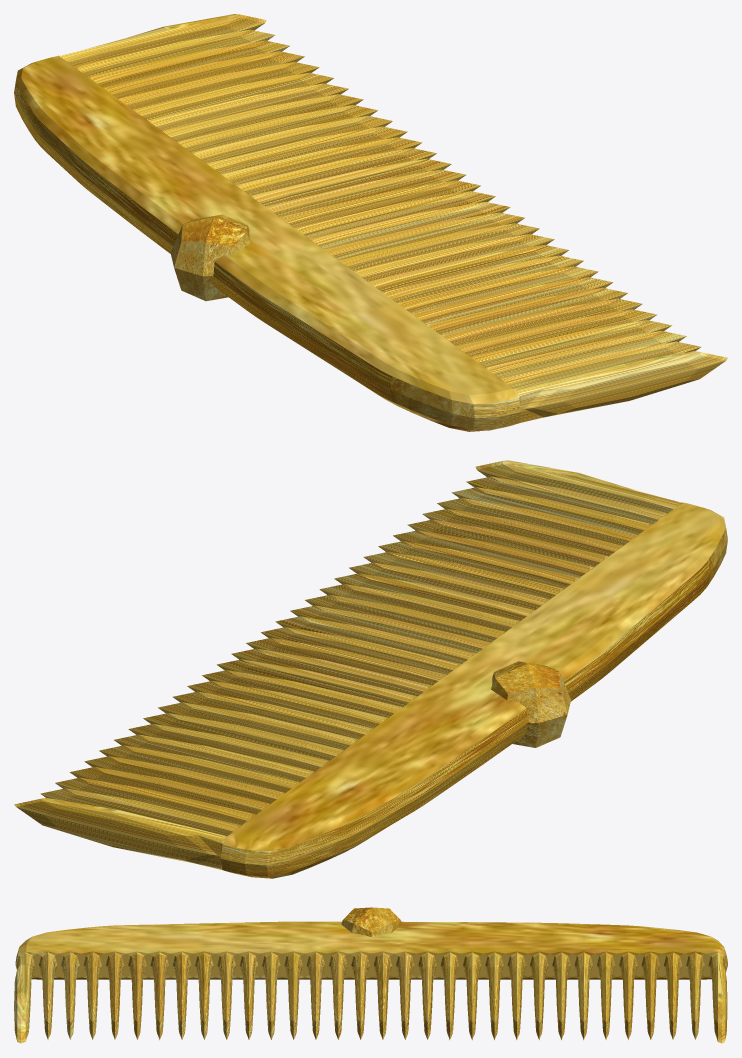
Rendered from combTextured - kopie.fbx.
3 renders of one model, top to bottom at view 1: azimuth 30°, elevation 25°; view 2: azimuth 150°, elevation 25°; view 3: azimuth 270°, elevation 25°, orthographic. The views are drawn at different scales.
Parts seen in each view (by area): view 1: Cube; view 2: Cube; view 3: Cube.
Part boxes in pixels (bbox=[...]): Cube: bbox=[14, 14, 727, 431]; Cube: bbox=[14, 460, 727, 878]; Cube: bbox=[14, 907, 727, 1043].
Size of the model in its own units: 297 by 72.42 by 748.
